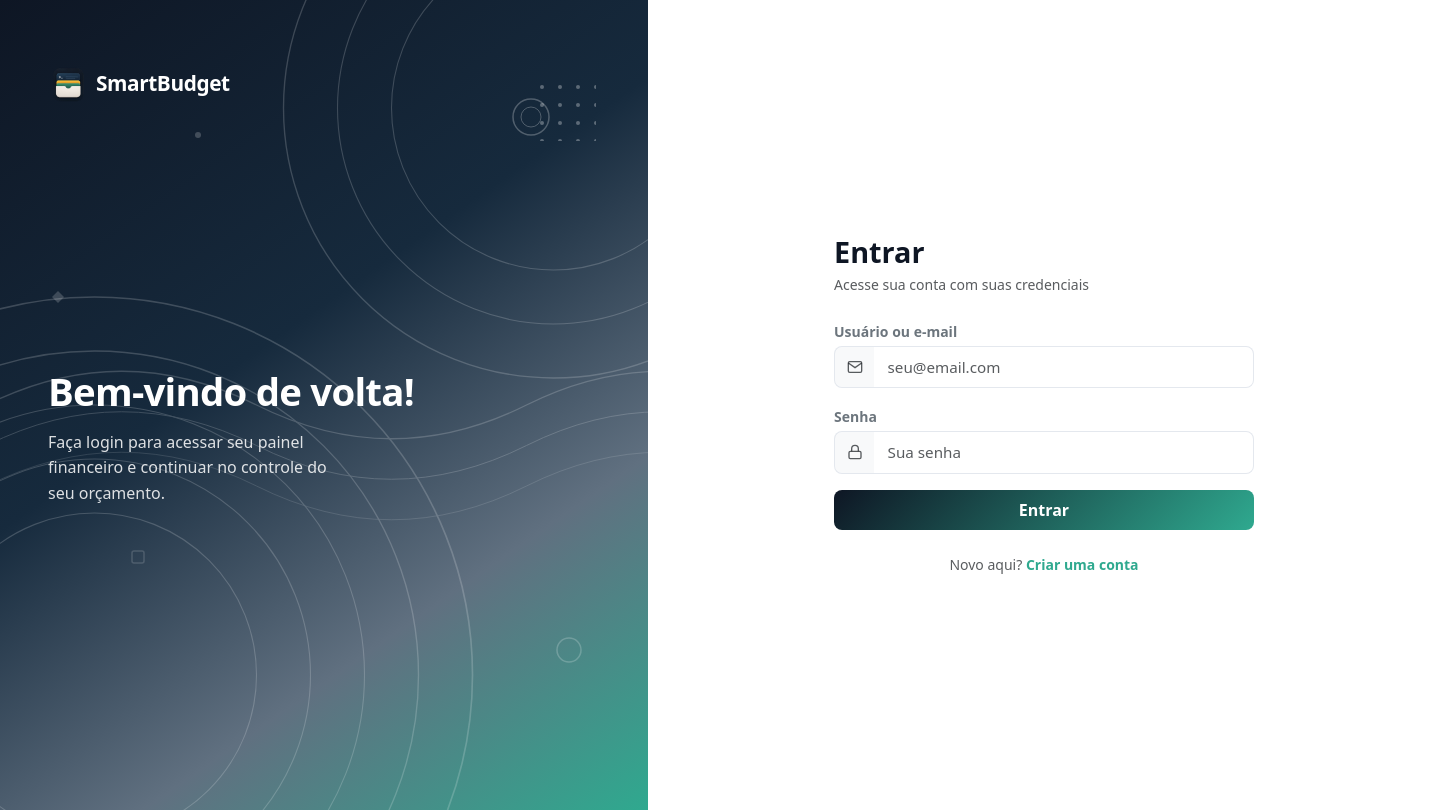
Test case: Tela de Login › deve exibir mensagens de erro de validação ao enviar o formulário vazio
Click the button "Entrar" at (1044, 510), box [834,490,1254,530]
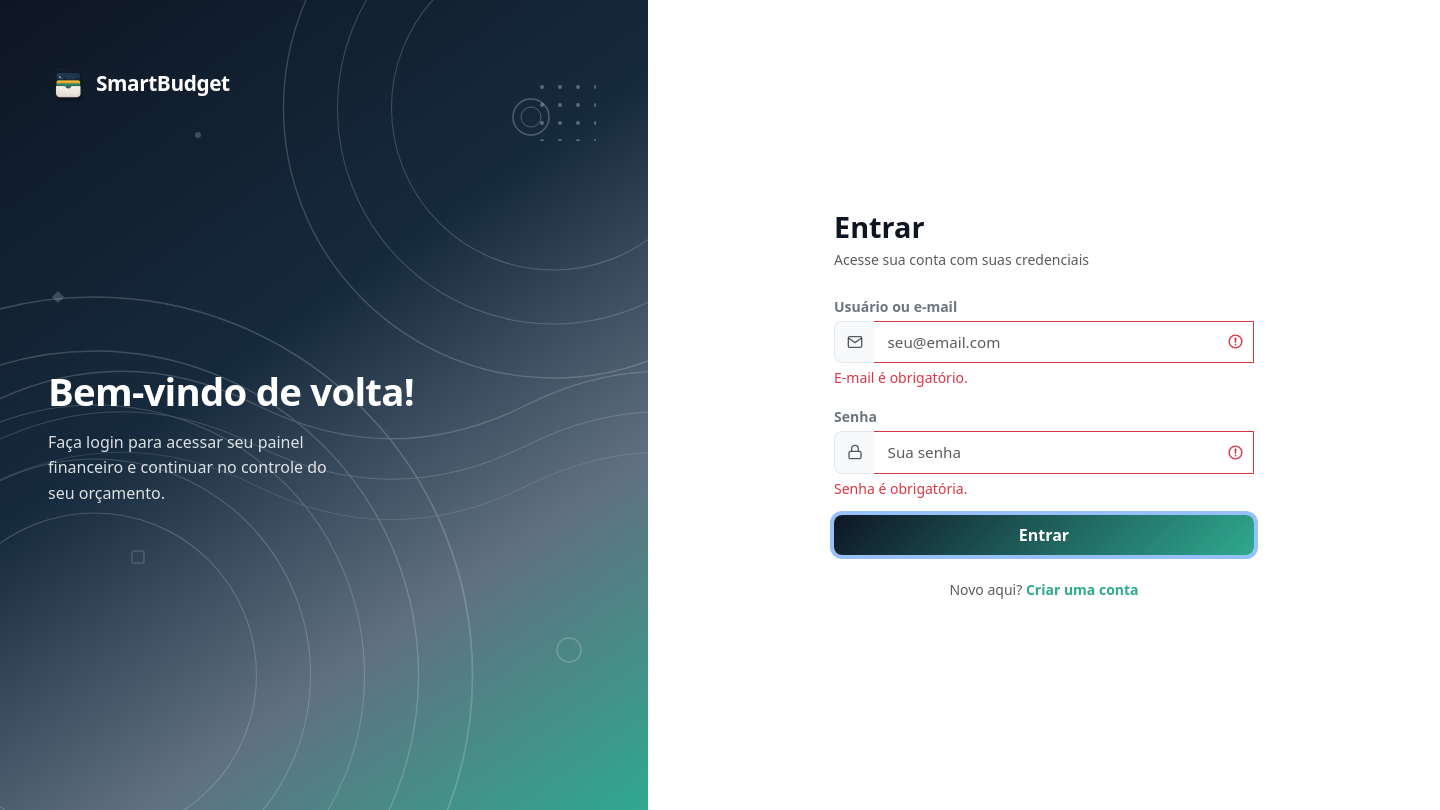
Expected: the text "E-mail é obrigatório." is shown, [834,368,968,387]
Expected: the text "Senha é obrigatória." is shown, [834,479,967,498]
